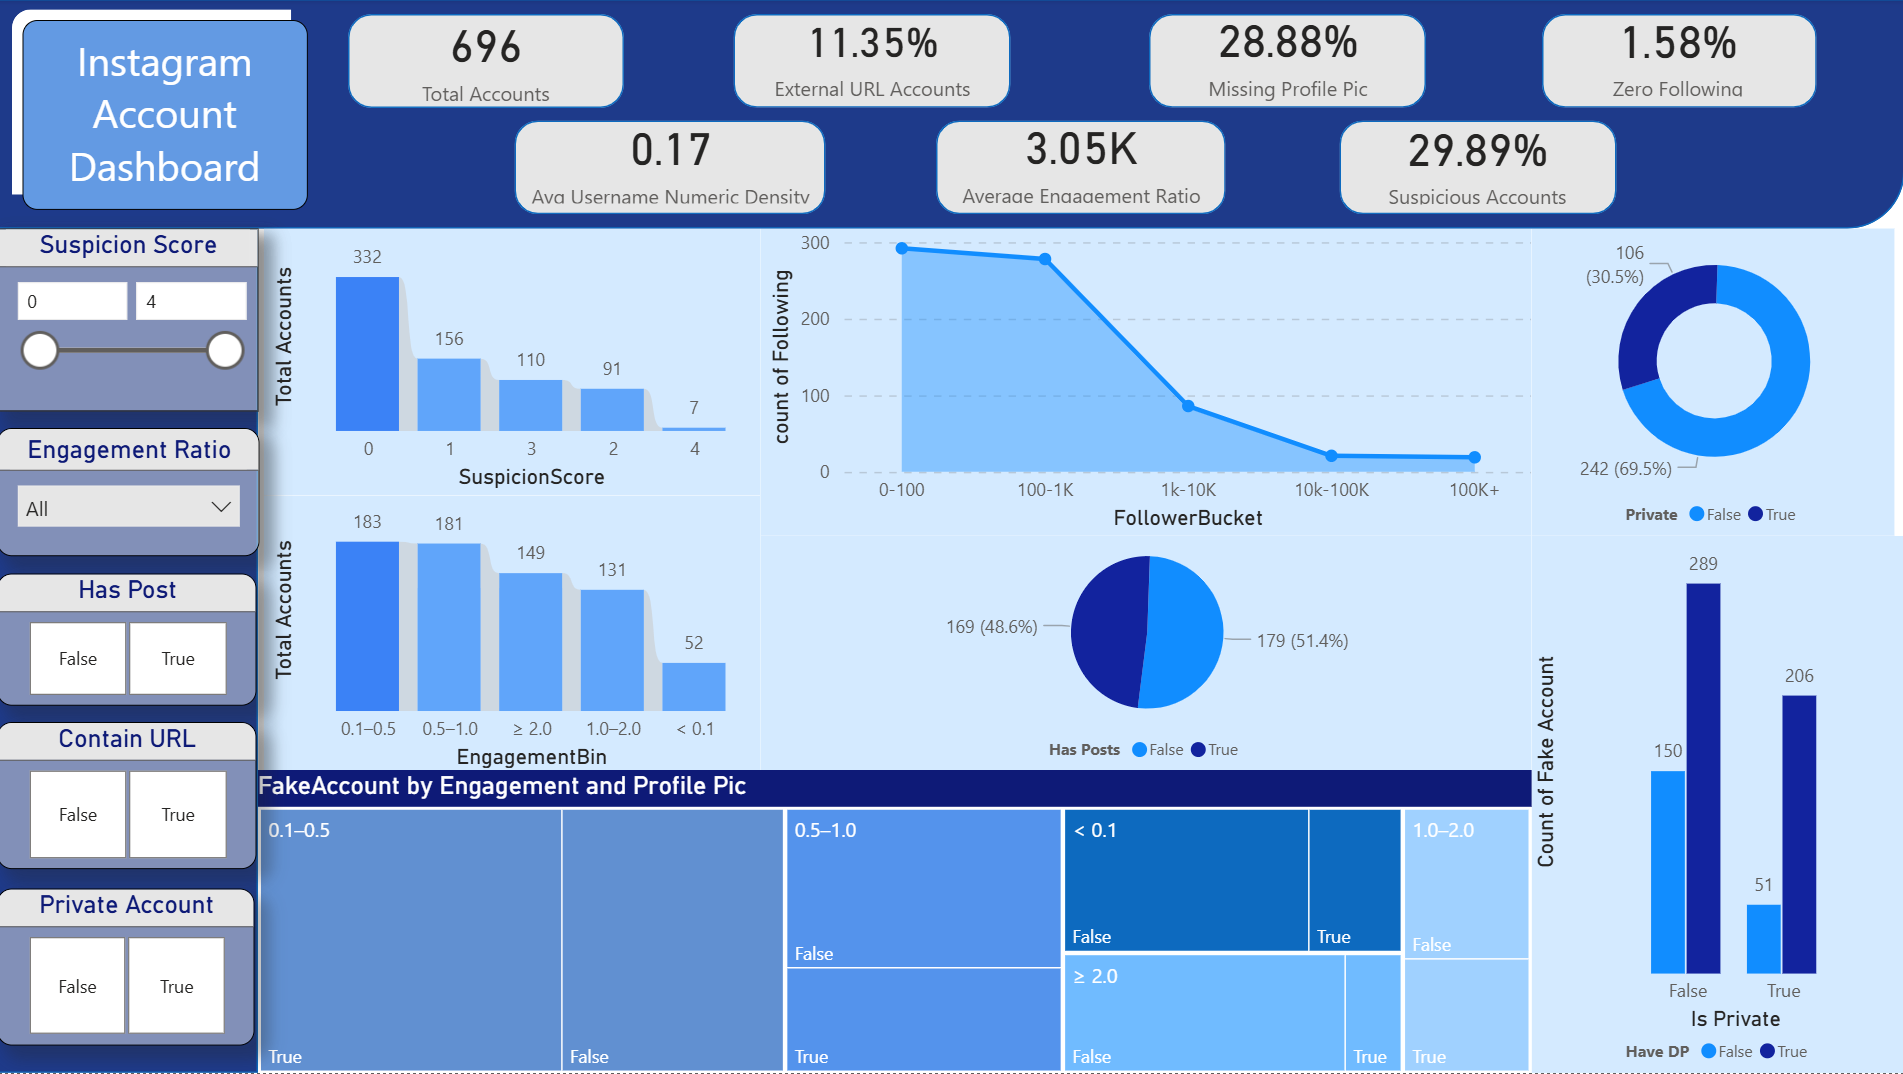

Layout of this report page (visuals, bound fields, positions):
{"tool":"powerbi","page":{"name":"Dashboard","canvas":[1280,720],"ordinal":0},"visuals":[{"type":"shape","box":[0,0,1279,154],"z":0},{"type":"shape","box":[0,153.8,175,566.2],"z":1000},{"type":"shape","box":[235,10,185,63],"z":2000},{"type":"shape","box":[347.1,81.4,208.6,62.9],"z":4000},{"type":"shape","box":[1035.7,10,184.3,62.9],"z":5000},{"type":"shape","box":[772.9,10,185.7,62.9],"z":6000},{"type":"shape","box":[494.3,10,185.7,62.9],"z":7000},{"type":"shape","box":[900,81.4,185.7,62.9],"z":8000},{"type":"shape","box":[630,81.4,194.3,62.9],"z":9000},{"type":"card","fields":{"Values":["main_table.Total Accounts"]},"box":[235.7,8.6,184.3,64.3],"z":10000},{"type":"card","fields":{"Values":["main_table.% External URL Accounts"]},"box":[494.3,4.3,185.7,70],"z":11000},{"type":"card","fields":{"Values":["main_table.% Missing Profile Pic"]},"box":[772.9,2.9,185.7,70],"z":12000},{"type":"card","fields":{"Values":["main_table.% Zero Following"]},"box":[1034.3,5.7,185.7,64.3],"z":13000},{"type":"card","fields":{"Values":["main_table.Avg Username Numeric Density"]},"box":[347.1,78.6,208.6,62.9],"z":14000},{"type":"donutChart","fields":{"Category":["main_table.IsPrivate"],"Y":["main_table.FakeAccount_hasPosts"]},"box":[1028.9,153.9,243.4,206.2],"z":14500},{"type":"card","fields":{"Values":["main_table.AverageEngagementRatio"]},"box":[630,77.1,194.3,64.3],"z":15000},{"type":"card","fields":{"Values":["main_table.% Suspicious Accounts"]},"box":[900,78.6,184.3,64.3],"z":16000},{"type":"columnChart","fields":{"Y":["main_table.Total Accounts"],"Category":["main_table.SuspicionScore"]},"box":[178.8,153.8,332.5,178.8],"z":17000},{"type":"columnChart","fields":{"Category":["main_table.EngagementBin"],"Y":["main_table.Total Accounts"]},"box":[178.8,332.5,332.5,187.5],"z":18000},{"type":"stackedAreaChart","fields":{"Category":["main_table.FollowerBucket"],"Y":["CountNonNull(main_table.FollowingBucket)"]},"box":[511.9,153.9,517,206.2],"z":20000},{"type":"clusteredColumnChart","fields":{"Y":["CountNonNull(main_table.IsFake)"],"Series":["main_table.HaveprofilePic"],"Category":["main_table.IsPrivate"]},"box":[1028.9,360.1,251.4,360.1],"z":20500},{"type":"pieChart","fields":{"Y":["main_table.FakeAccount_hasPosts"],"Category":["main_table.HasPosts"]},"box":[511.9,360.1,517,157.9],"z":21000},{"type":"treemap","title":"FakeAccount by Engagement and Profile Pic","fields":{"Values":["main_table.FakeAccount_hasPosts"],"Group":["main_table.EngagementBin"],"Details":["main_table.HaveprofilePic"]},"box":[175,517,853.9,203.2],"z":24000},{"type":"slicer","title":"Suspicion Score","fields":{"Values":["main_table.SuspicionScore"]},"box":[0,153.8,175,122.5],"z":25000},{"type":"slicer","title":"Engagement Ratio","fields":{"Values":["main_table.EngagementBin"]},"box":[0,287.5,176.2,86.2],"z":26000},{"type":"shape","box":[10,7.1,187.1,124.3],"z":26500},{"type":"slicer","title":"Has Post","fields":{"Values":["main_table.HasPosts"]},"box":[0,385,173.8,88.8],"z":27000},{"type":"slicer","title":"Contain URL","fields":{"Values":["main_table.HaveExternalURL"]},"box":[0,485,173.8,98.8],"z":28000},{"type":"slicer","title":"Private Account","fields":{"Values":["main_table.IsPrivate"]},"box":[0,596.2,172.5,105],"z":30000},{"type":"textbox","box":[17,13.8,191.2,127.5],"z":34500}]}

Visuals, with their boxes in screenshot pixels (x1, y1, x2, y2), scaled from the page's 1280x720 canvas onto the 1903x1074 screenshot:
shape: <bbox>0, 0, 1902, 230</bbox>
shape: <bbox>0, 229, 260, 1073</bbox>
shape: <bbox>349, 15, 624, 109</bbox>
shape: <bbox>516, 121, 826, 215</bbox>
shape: <bbox>1540, 15, 1814, 109</bbox>
shape: <bbox>1149, 15, 1425, 109</bbox>
shape: <bbox>735, 15, 1011, 109</bbox>
shape: <bbox>1338, 121, 1614, 215</bbox>
shape: <bbox>937, 121, 1226, 215</bbox>
card - main_table.Total Accounts: <bbox>350, 13, 624, 109</bbox>
card - main_table.% External URL Accounts: <bbox>735, 6, 1011, 111</bbox>
card - main_table.% Missing Profile Pic: <bbox>1149, 4, 1425, 109</bbox>
card - main_table.% Zero Following: <bbox>1538, 9, 1814, 104</bbox>
card - main_table.Avg Username Numeric Density: <bbox>516, 117, 826, 211</bbox>
donutChart - main_table.IsPrivate x main_table.FakeAccount_hasPosts: <bbox>1530, 230, 1892, 537</bbox>
card - main_table.AverageEngagementRatio: <bbox>937, 115, 1226, 211</bbox>
card - main_table.% Suspicious Accounts: <bbox>1338, 117, 1612, 213</bbox>
columnChart - main_table.Total Accounts x main_table.SuspicionScore: <bbox>266, 229, 760, 496</bbox>
columnChart - main_table.EngagementBin x main_table.Total Accounts: <bbox>266, 496, 760, 776</bbox>
stackedAreaChart - main_table.FollowerBucket x CountNonNull(main_table.FollowingBucket): <bbox>761, 230, 1530, 537</bbox>
clusteredColumnChart - CountNonNull(main_table.IsFake) x main_table.HaveprofilePic: <bbox>1530, 537, 1902, 1073</bbox>
pieChart - main_table.FakeAccount_hasPosts x main_table.HasPosts: <bbox>761, 537, 1530, 773</bbox>
"FakeAccount by Engagement and Profile Pic" treemap: <bbox>260, 771, 1530, 1073</bbox>
"Suspicion Score" slicer: <bbox>0, 229, 260, 412</bbox>
"Engagement Ratio" slicer: <bbox>0, 429, 262, 557</bbox>
shape: <bbox>15, 11, 293, 196</bbox>
"Has Post" slicer: <bbox>0, 574, 258, 707</bbox>
"Contain URL" slicer: <bbox>0, 723, 258, 871</bbox>
"Private Account" slicer: <bbox>0, 889, 256, 1046</bbox>
textbox: <bbox>25, 21, 310, 211</bbox>
